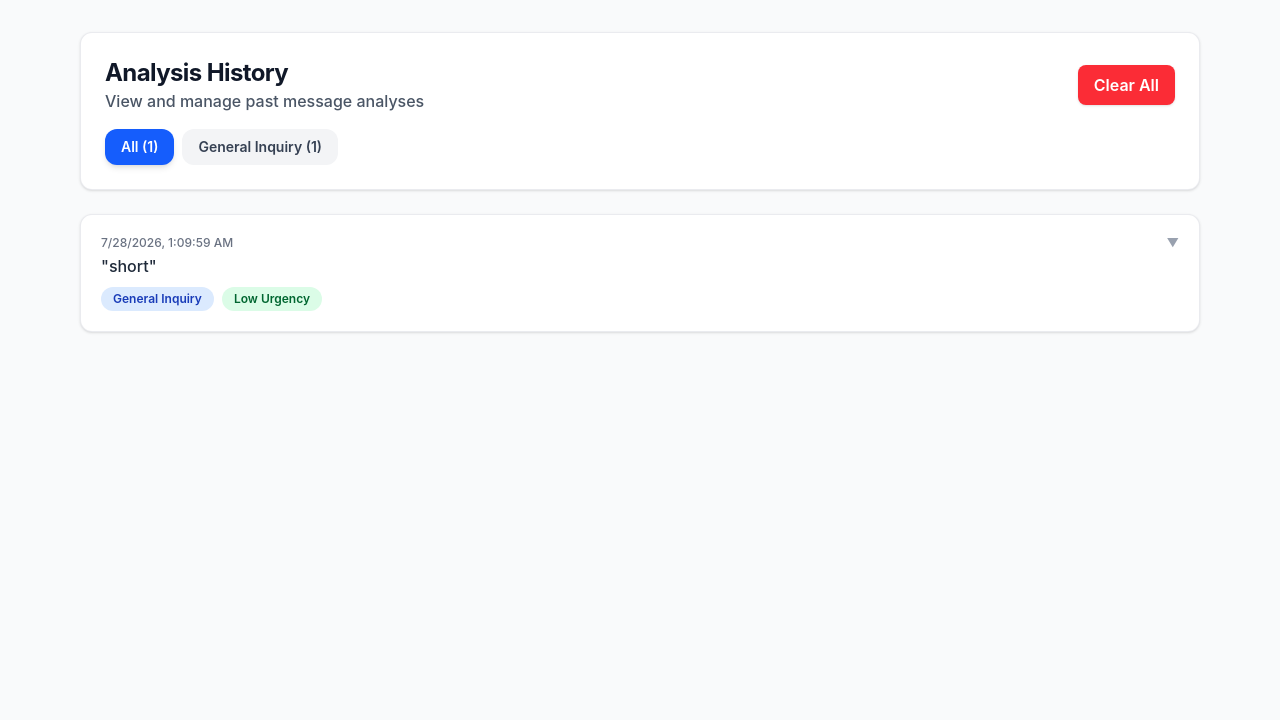
Test case: HistoryPage › expands an item to show its full details on click, and collapses it again on a second click
The width and height of the screenshot is (1280, 720).
Click the text "\"short\"": {"x": 129, "y": 266} [101,256,157,276]
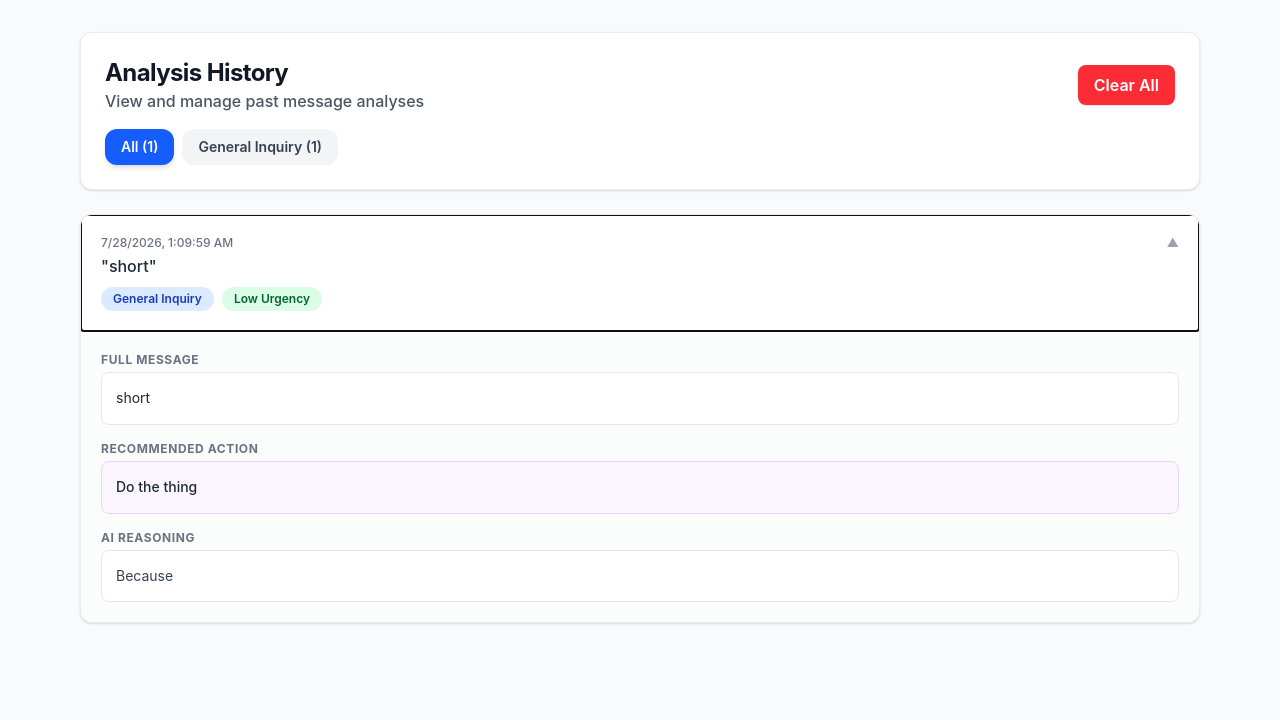
Expected: the text "Do the thing" is shown, [101,461,1179,514]
Click the text "\"short\"": {"x": 129, "y": 266} [101,256,157,276]
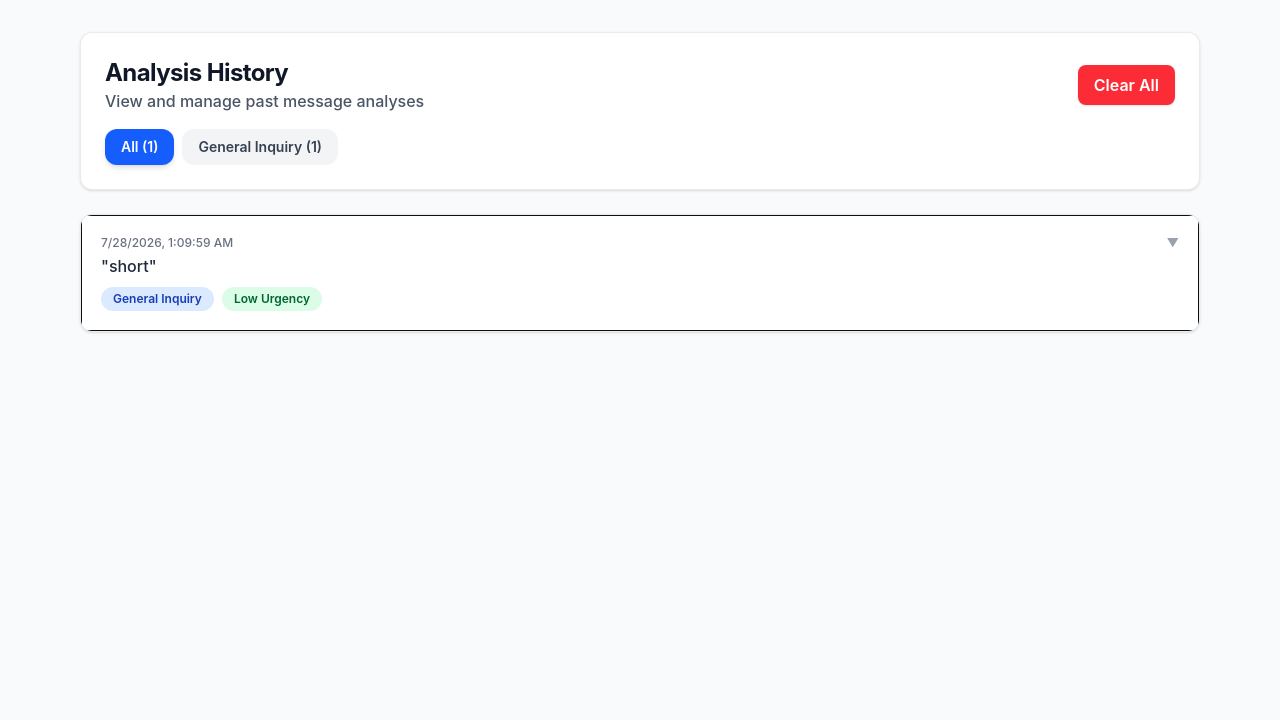
Expected: the text "Do the thing" is gone
